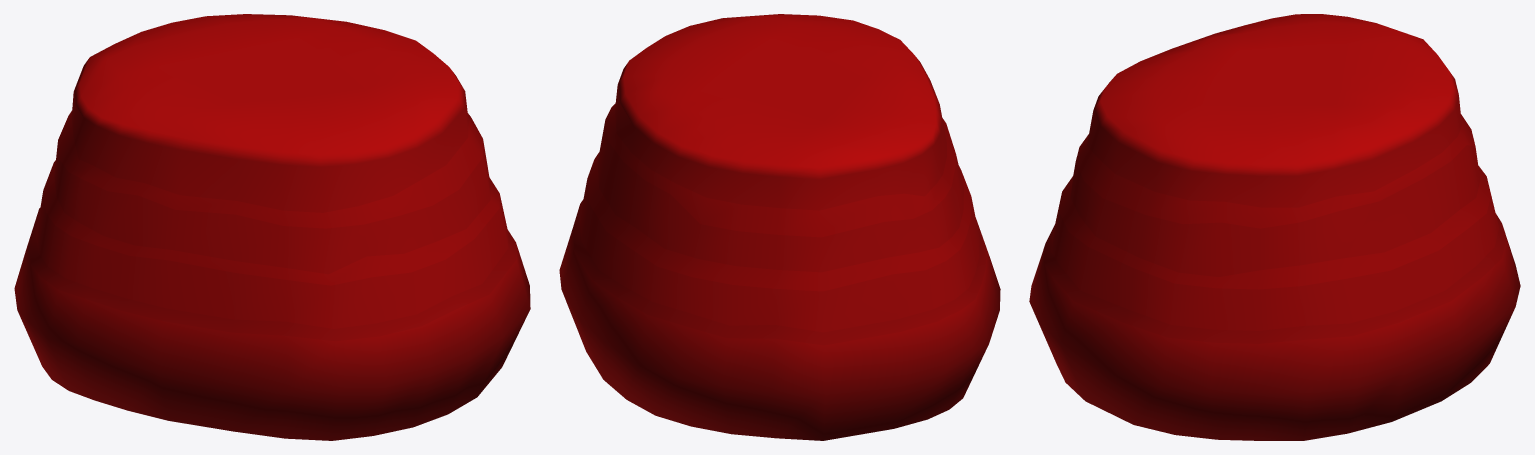
File: geology-landforms-sandstonerocktiny_v3.fbx
3 views of the same model, side by side, from view 1: azimuth 30°, elevation 25°; view 2: azimuth 150°, elevation 25°; view 3: azimuth 270°, elevation 25° (orthographic). The views are drawn at different scales.
Visible parts, largest first — view 1: SandstoneRockTiny_v3; view 2: SandstoneRockTiny_v3; view 3: SandstoneRockTiny_v3.
Boxes of the visible parts, <box> form: SandstoneRockTiny_v3: <box>14,14,530,440</box>; SandstoneRockTiny_v3: <box>559,14,1000,440</box>; SandstoneRockTiny_v3: <box>1029,14,1520,440</box>.
Size of the model in its own units: 30.11 by 18.49 by 30.4.
